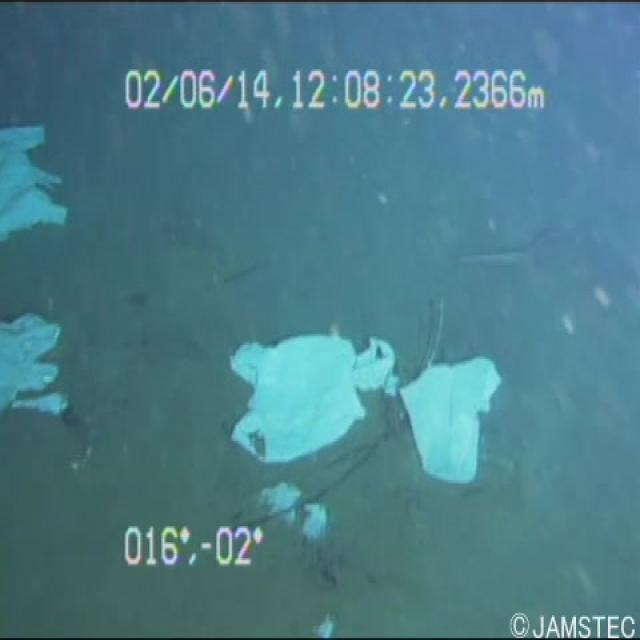plastic: (213, 302, 399, 464), (399, 343, 509, 487), (0, 109, 71, 247), (0, 295, 69, 426)
